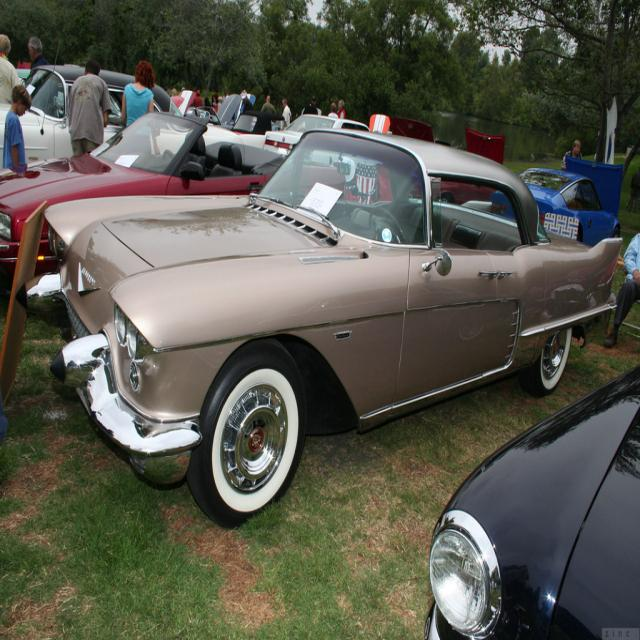car: (19, 127, 624, 530)
